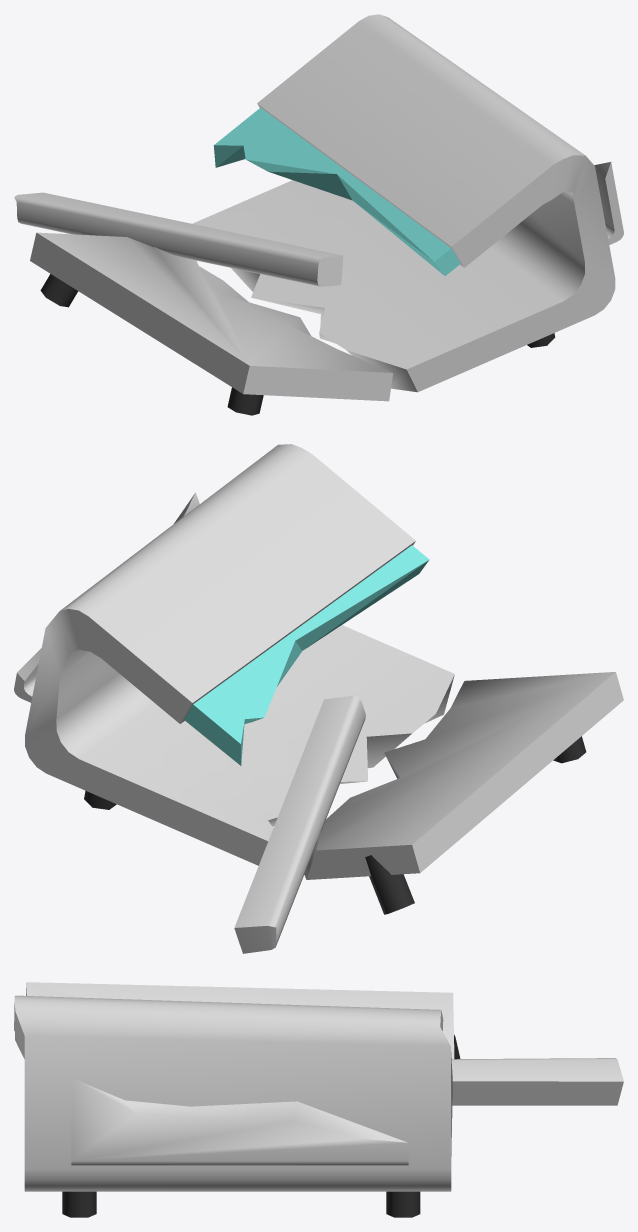
The model's file is Lounge Table Destroyed B.fbx.
3 views of the same model, one above another, from view 1: azimuth 30°, elevation 25°; view 2: azimuth 150°, elevation 25°; view 3: azimuth 270°, elevation 25° (orthographic). The views are drawn at different scales.
Parts seen in each view (by area): view 1: Lounge Table Destroyed B; view 2: Lounge Table Destroyed B; view 3: Lounge Table Destroyed B.
Part boxes in pixels (x1,y1,x2,y2): Lounge Table Destroyed B: (14, 14, 623, 415); Lounge Table Destroyed B: (14, 444, 623, 953); Lounge Table Destroyed B: (14, 982, 623, 1217).
Size of the model in its own units: 0.8025 by 0.4219 by 0.9893.
